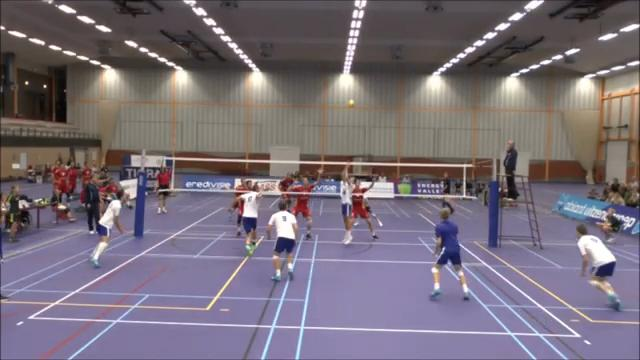alzata: (334, 160, 358, 248)
